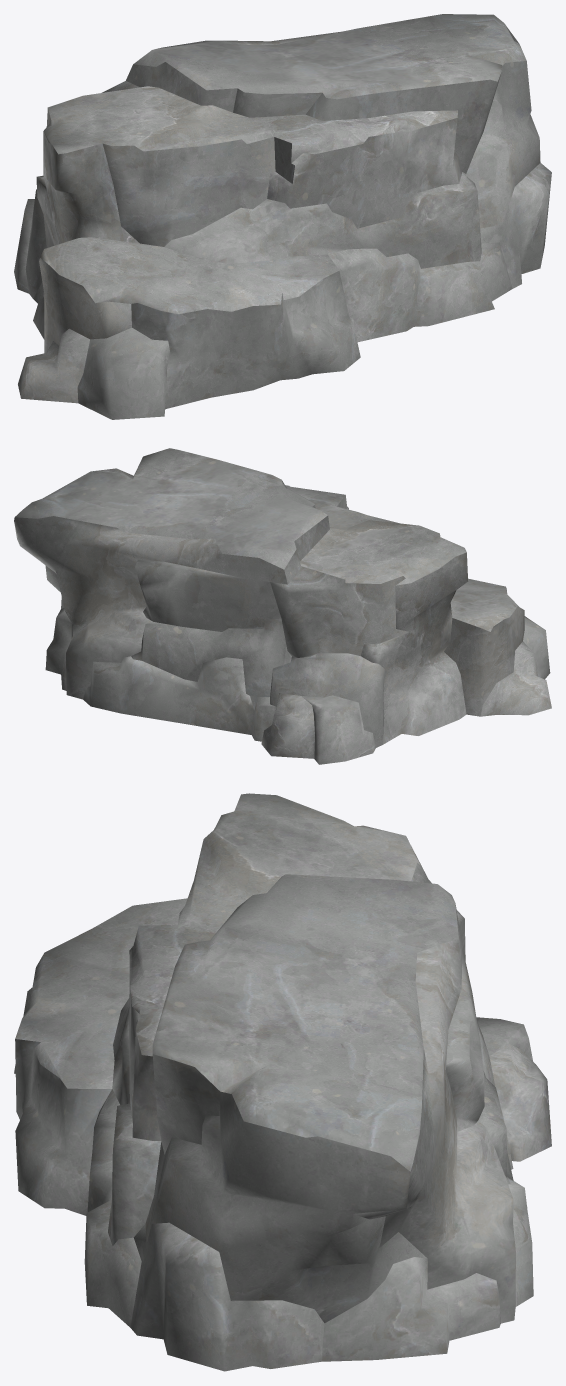
Rendered from SM_Com_Roc_43AS.fbx.
3 renders of one model, top to bottom at view 1: azimuth 30°, elevation 25°; view 2: azimuth 150°, elevation 25°; view 3: azimuth 270°, elevation 25°, orthographic. The views are drawn at different scales.
Parts seen in each view (by area): view 1: SM_Com_Roc_43AS.mo; view 2: SM_Com_Roc_43AS.mo; view 3: SM_Com_Roc_43AS.mo.
Boxes of the visible parts, box(x1,y1,x2,y2) form: SM_Com_Roc_43AS.mo: box(14, 14, 551, 419); SM_Com_Roc_43AS.mo: box(14, 448, 551, 764); SM_Com_Roc_43AS.mo: box(14, 793, 551, 1371).
Bounding box in the file's own units: 20.03 × 7.43 × 12.21.
